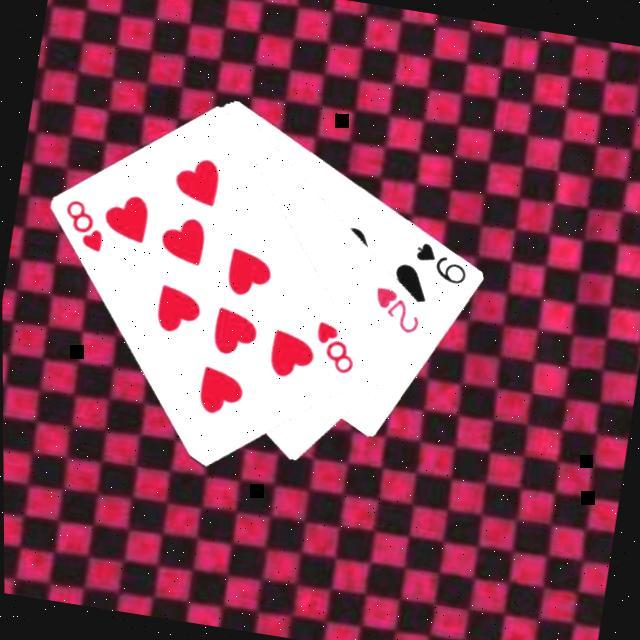2H: (367, 282, 428, 339)
8H: (57, 194, 113, 256), (308, 316, 363, 379)
9S: (409, 237, 475, 288)
